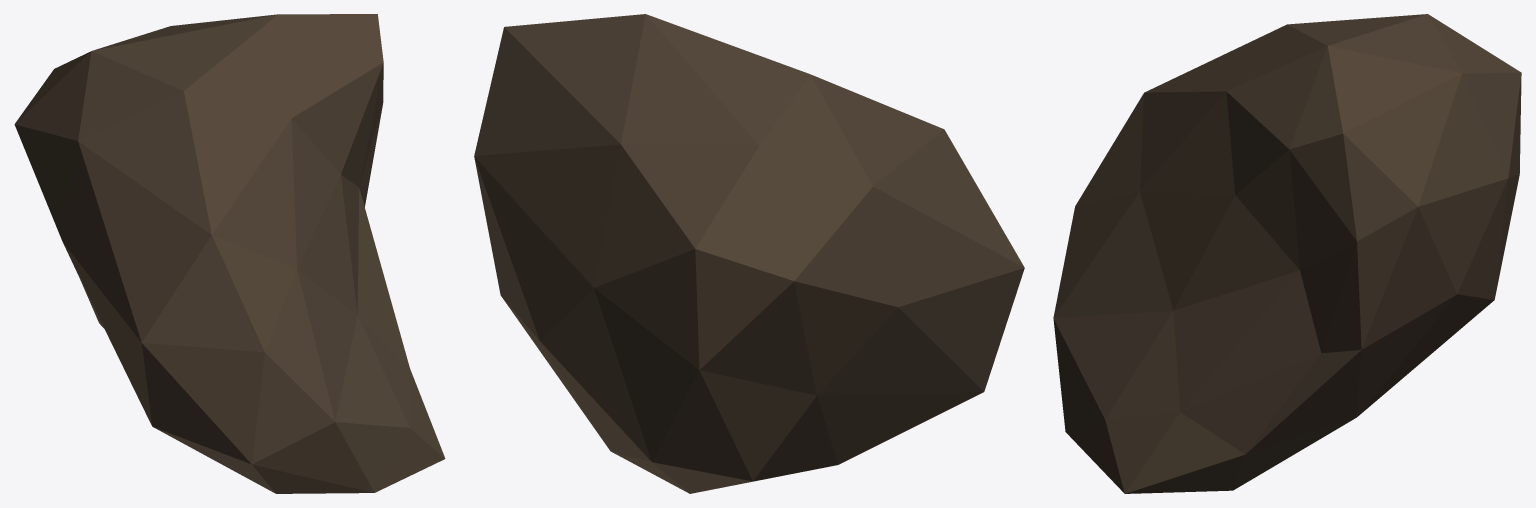
The model's file is Asteroid1.fbx.
3 views of the same model, side by side, from view 1: azimuth 30°, elevation 25°; view 2: azimuth 150°, elevation 25°; view 3: azimuth 270°, elevation 25° (orthographic). The views are drawn at different scales.
Parts seen in each view (by area): view 1: Asteroid1; view 2: Asteroid1; view 3: Asteroid1.
Boxes of the visible parts, x1,y1,x2,y2 form: Asteroid1: [14, 14, 445, 493]; Asteroid1: [474, 14, 1024, 493]; Asteroid1: [1053, 14, 1521, 493].
Size of the model in its own units: 46.96 by 53.21 by 54.39.
